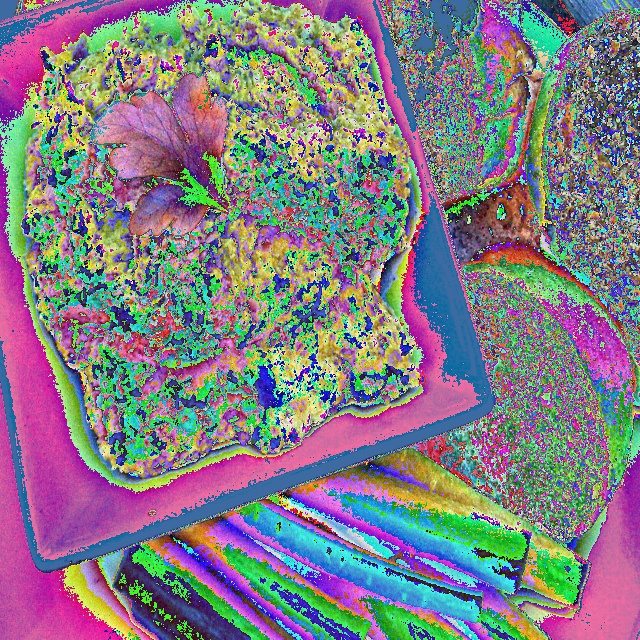background: (111, 0, 639, 640), (20, 0, 424, 478)
